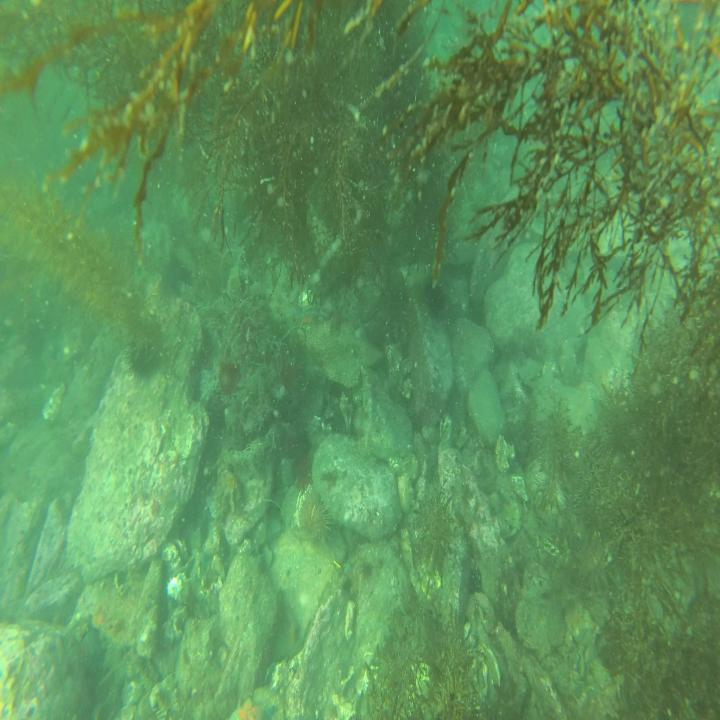echinus: (294, 485, 332, 549)
starfish: (225, 686, 278, 720), (296, 300, 324, 334)
